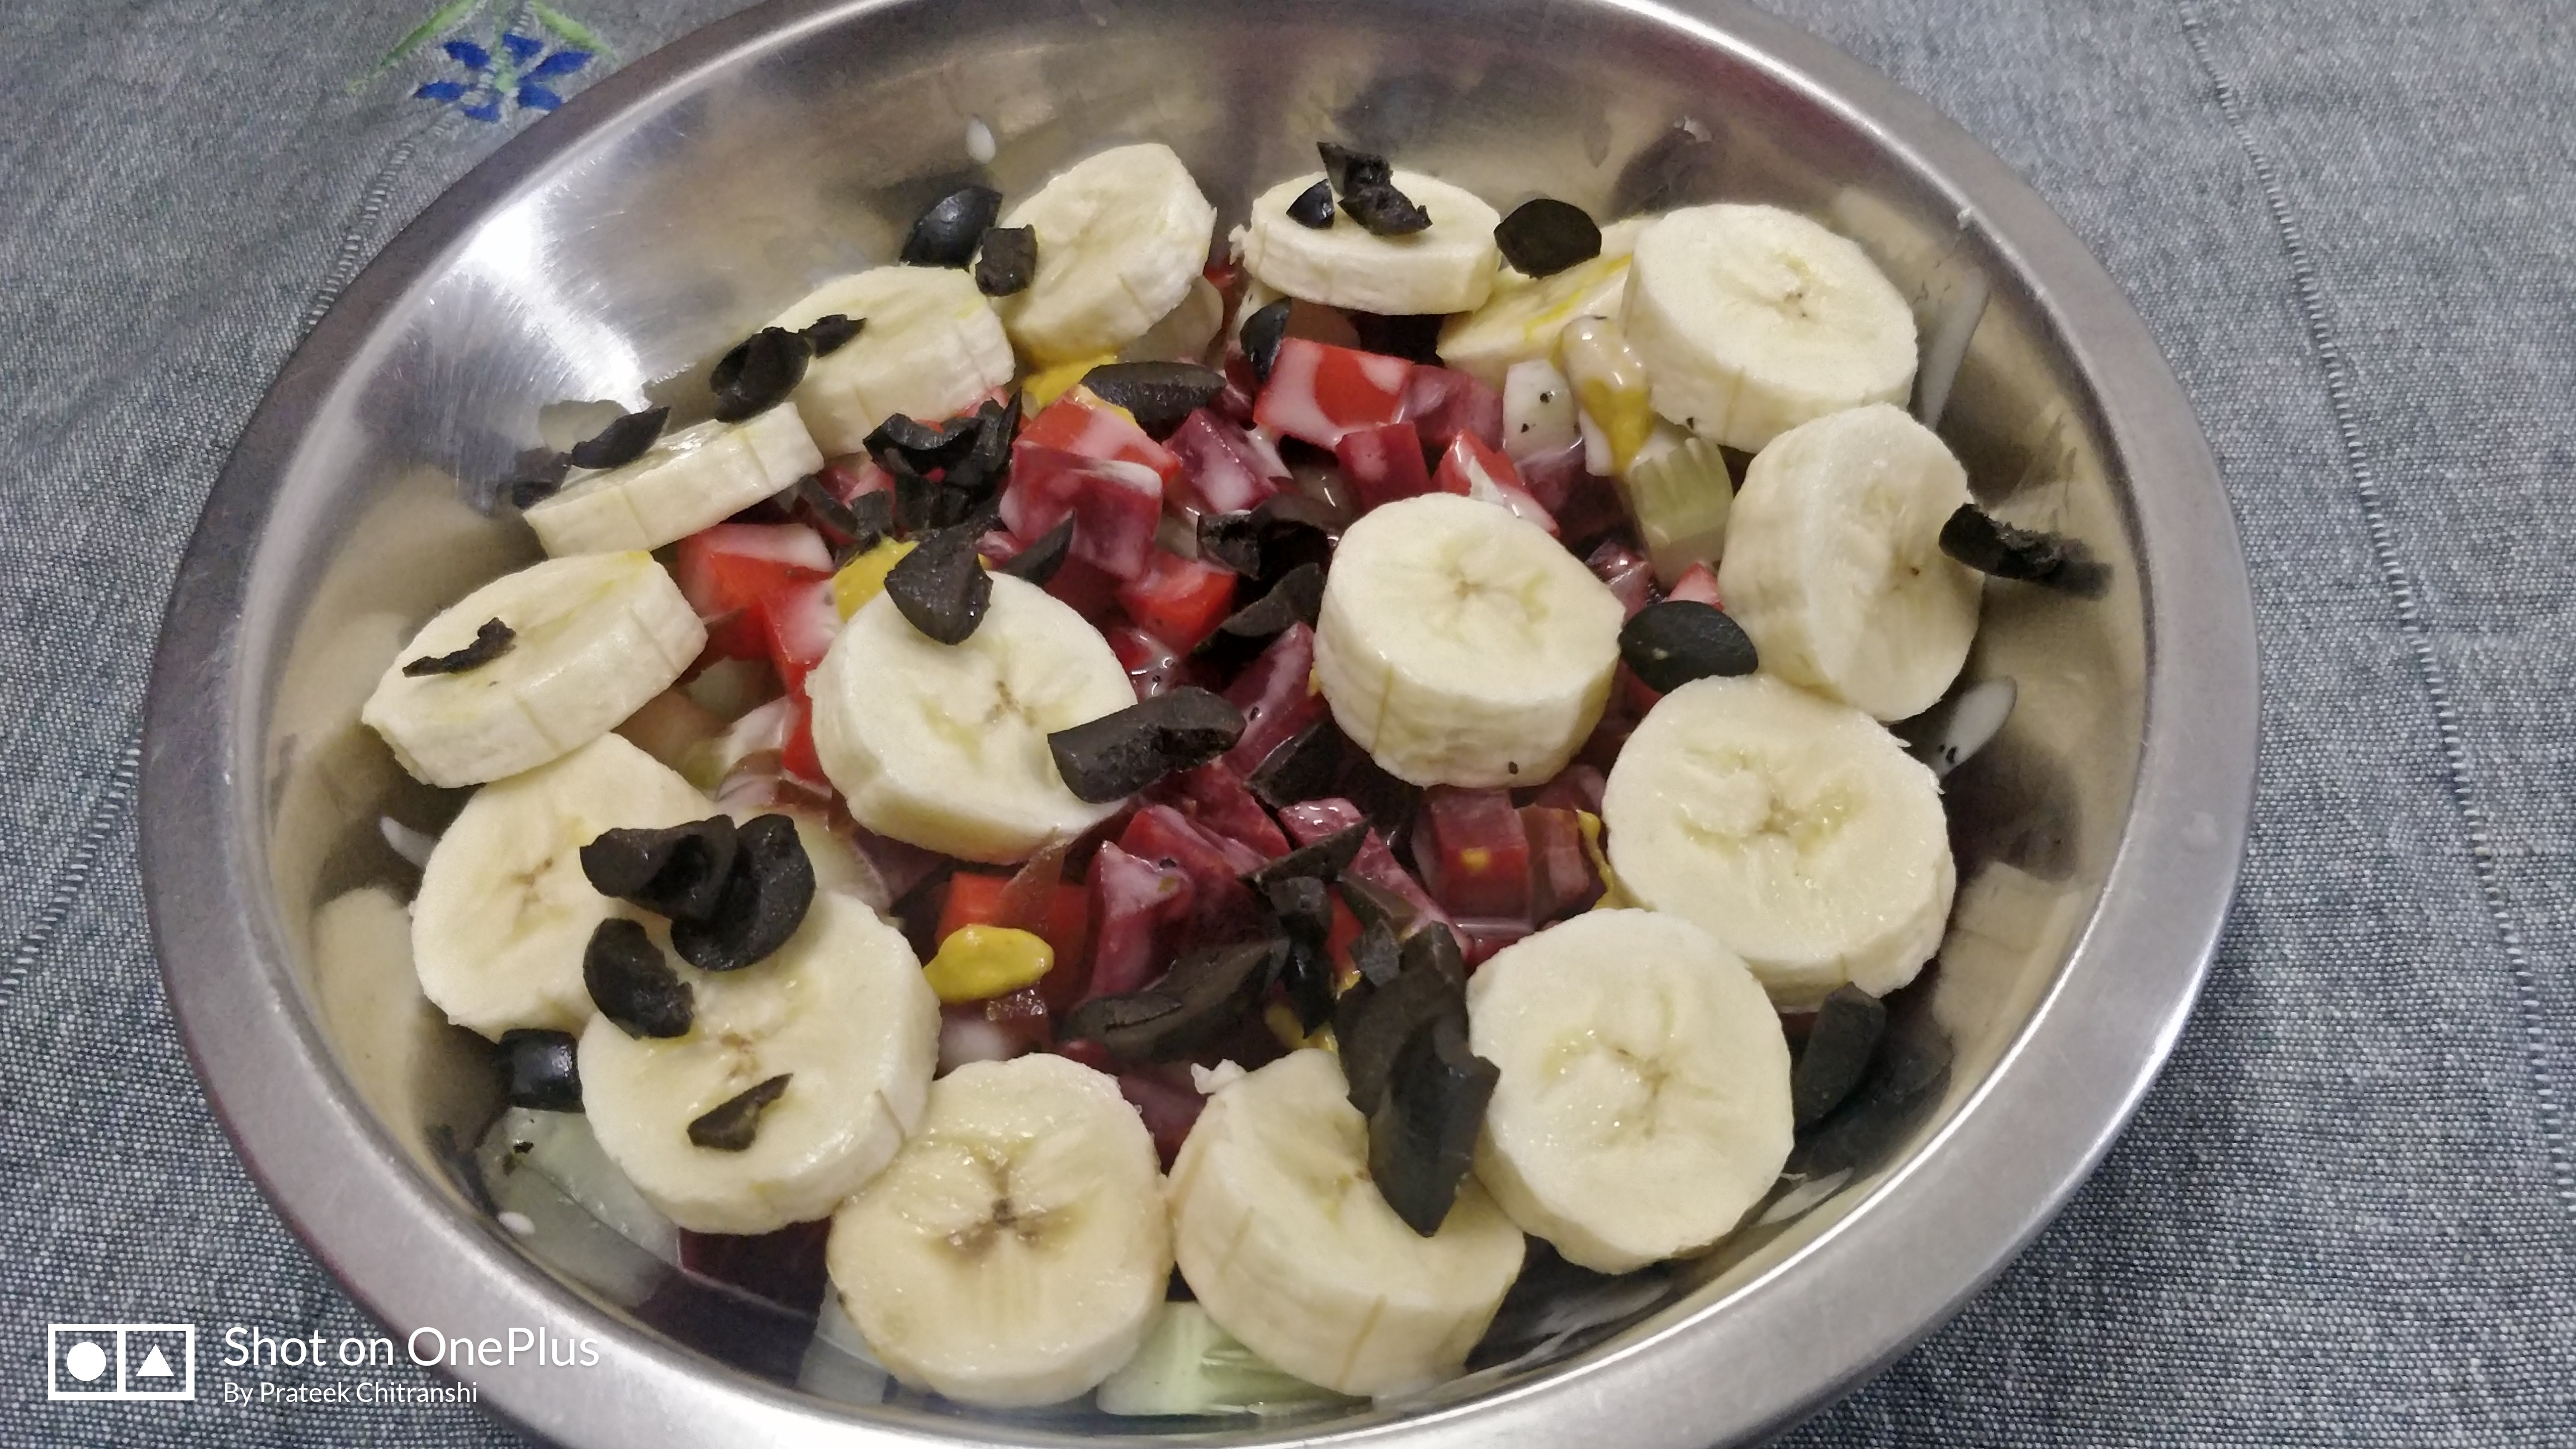food: (343, 110, 2081, 1430)
